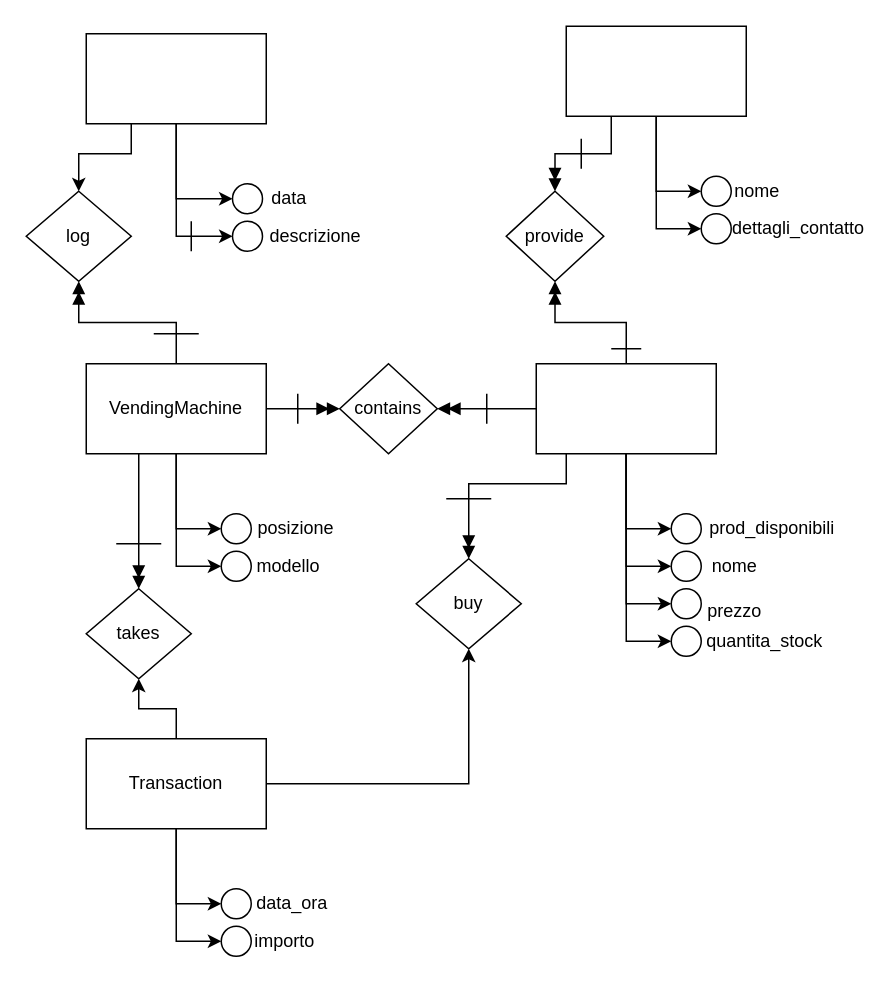
Image size: 893x990. Some labels were removed from this diagram. The box of each missing label's shape, as (x1, y1, x2, y2) in pixels:
Maintenance: (85, 32, 266, 124)
Product: (535, 362, 716, 454)
Supplier: (565, 25, 746, 116)
